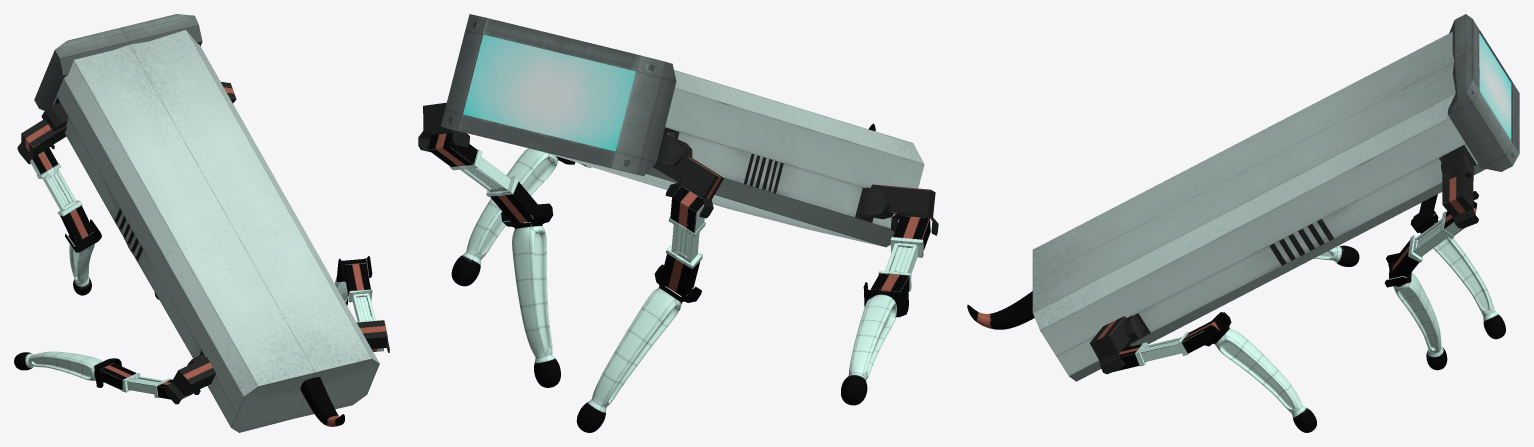
Rendered from neuro dog sitting.glb.
The picture shows the model from 3 angles, left to right: view 1: azimuth 30°, elevation 25°; view 2: azimuth 150°, elevation 25°; view 3: azimuth 270°, elevation 25°; orthographic projection. The views are drawn at different scales.
Visible parts, largest first — view 1: Body_Cube.010, Middle_legs_Cube.013, Lower_Legs_Cube.014, Upper_LEgs__Cube.011, TAil_Cube.012; view 2: Body_Cube.010, Lower_Legs_Cube.014, Middle_legs_Cube.013, Upper_LEgs__Cube.011; view 3: Body_Cube.010, Lower_Legs_Cube.014, Middle_legs_Cube.013, Upper_LEgs__Cube.011, TAil_Cube.012.
Boxes of the visible parts, x1,y1,x2,y2 form: Body_Cube.010: [34, 14, 379, 432]; Middle_legs_Cube.013: [30, 147, 383, 399]; Lower_Legs_Cube.014: [14, 219, 372, 387]; Upper_LEgs__Cube.011: [17, 82, 389, 404]; TAil_Cube.012: [300, 377, 344, 426]; Body_Cube.010: [441, 14, 924, 247]; Lower_Legs_Cube.014: [451, 148, 908, 432]; Middle_legs_Cube.013: [427, 133, 930, 296]; Upper_LEgs__Cube.011: [418, 102, 938, 235]; Body_Cube.010: [1032, 14, 1519, 381]; Lower_Legs_Cube.014: [1198, 210, 1505, 432]; Middle_legs_Cube.013: [1114, 194, 1477, 371]; Upper_LEgs__Cube.011: [1090, 173, 1478, 374]; TAil_Cube.012: [967, 291, 1034, 329].
Bounding box in the file's own units: 1.15 × 0.9445 × 1.55.
1 material, 1 textured.
